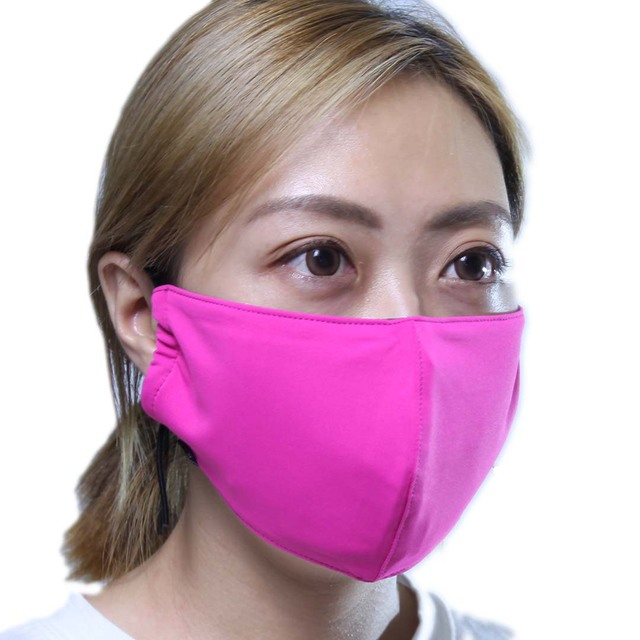mask: (157, 312, 565, 567)
